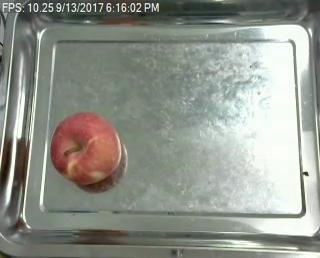apple: (50, 112, 122, 184)
